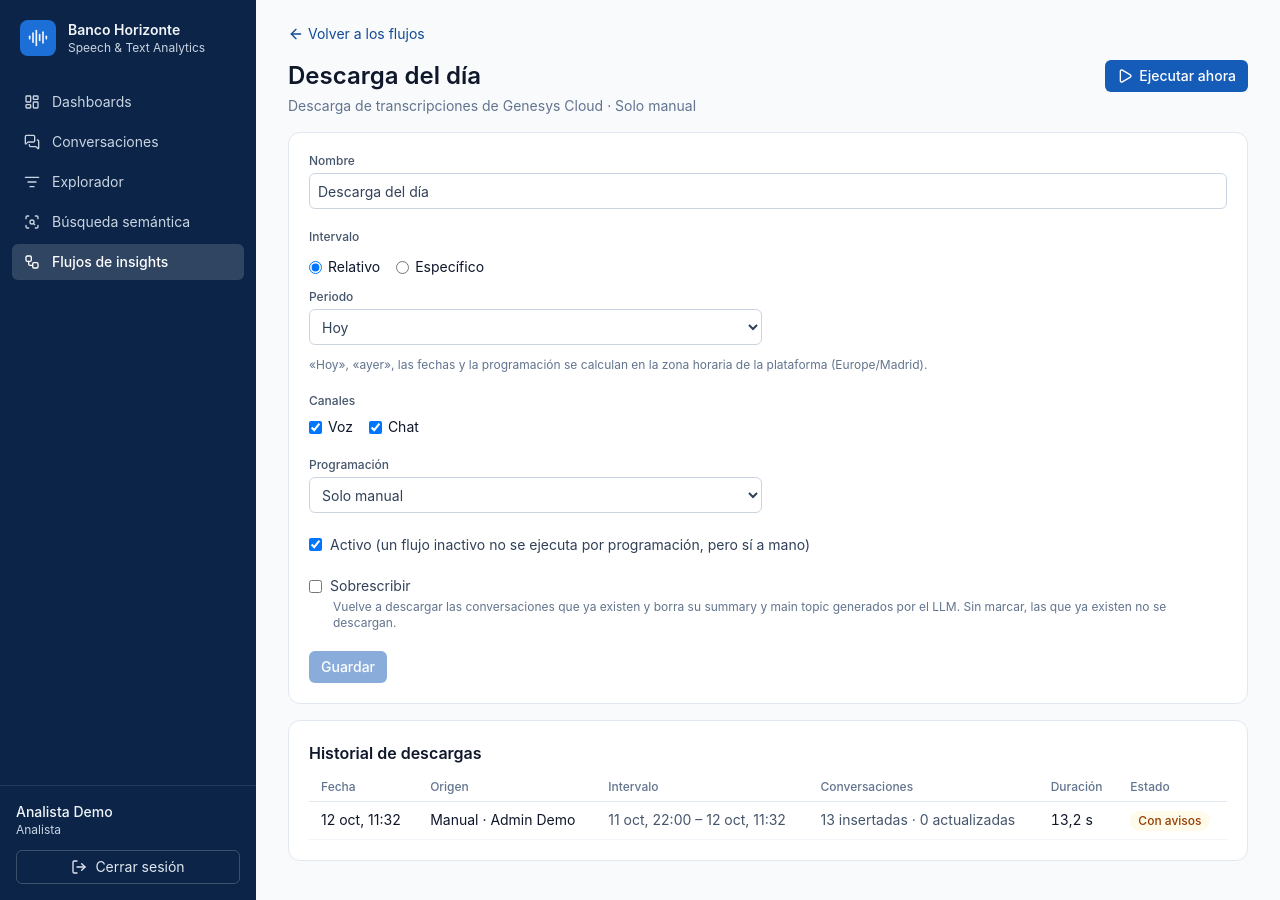
Scenario: Flujos de descarga: ejecutar y su historial › si ya hay una descarga en curso lo explica
The width and height of the screenshot is (1280, 900).
Click the button "Ejecutar ahora".
click(1177, 76)  # box [1105,60,1248,92]
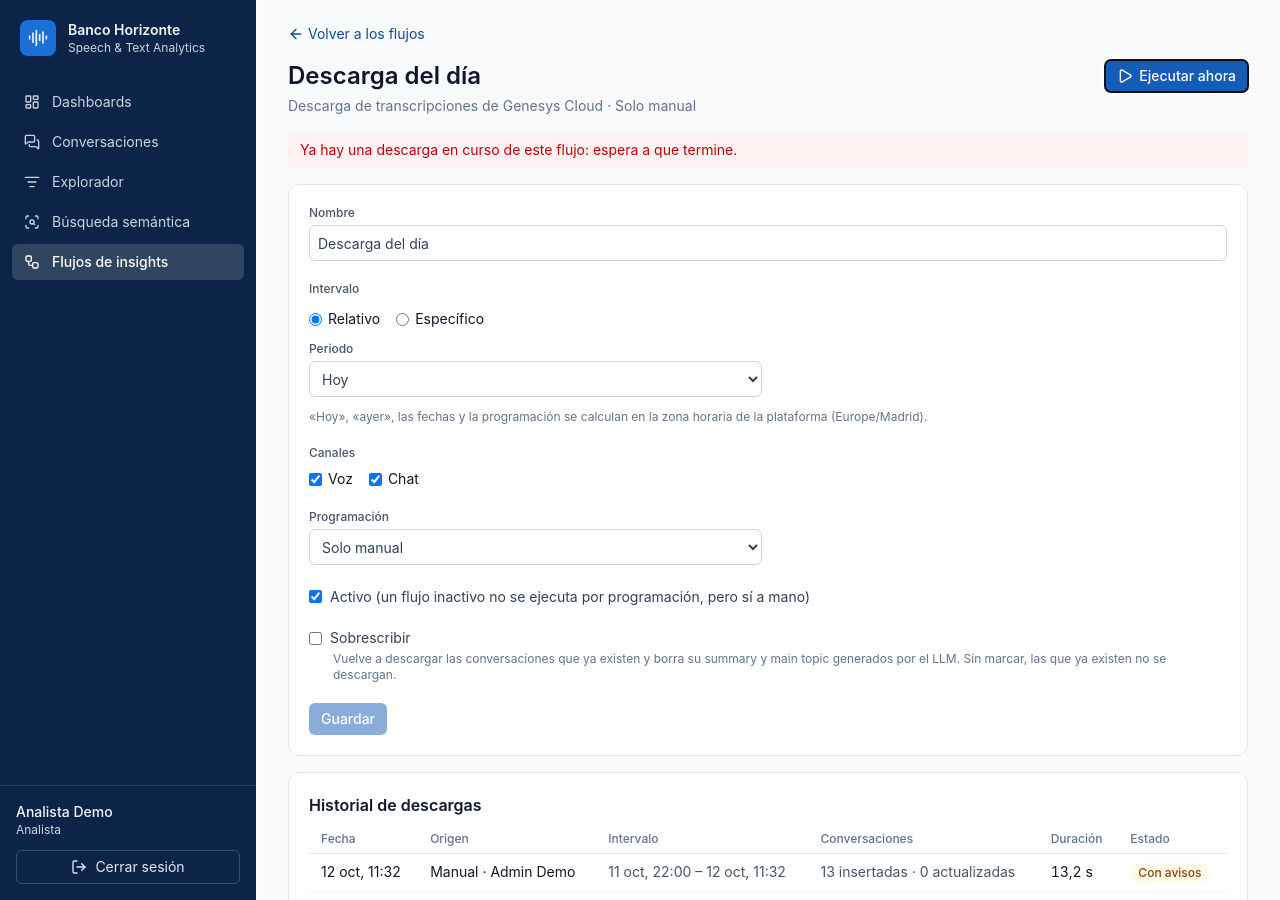
Result: the message shows "Ya hay una descarga en curso" at [300,141,737,158]
